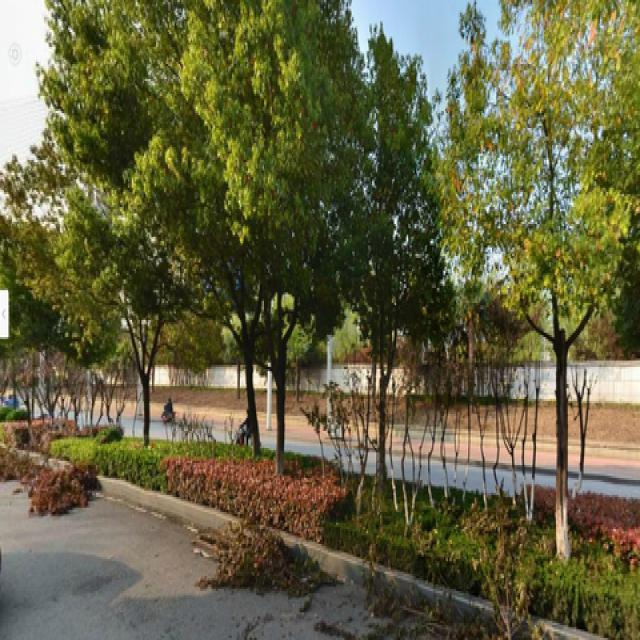cinn: (200, 22, 361, 454), (478, 42, 606, 538), (97, 186, 175, 437)
